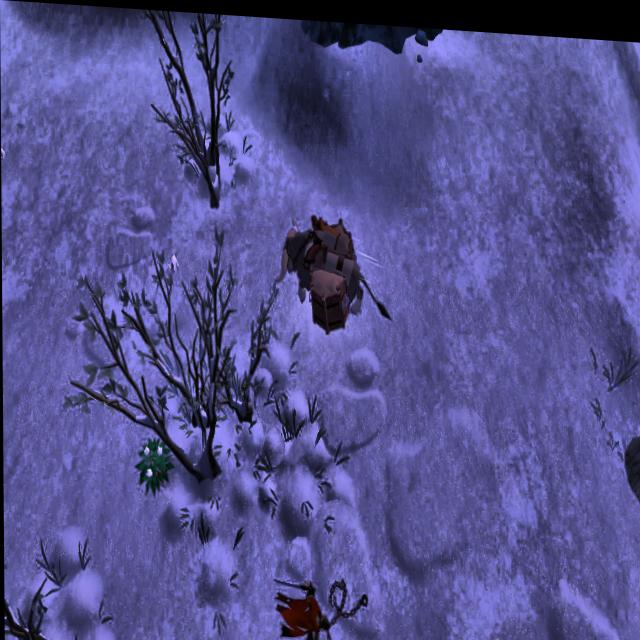enemy_factionUndead: (277, 576, 329, 640)
fiber_t3: (135, 434, 176, 495)
